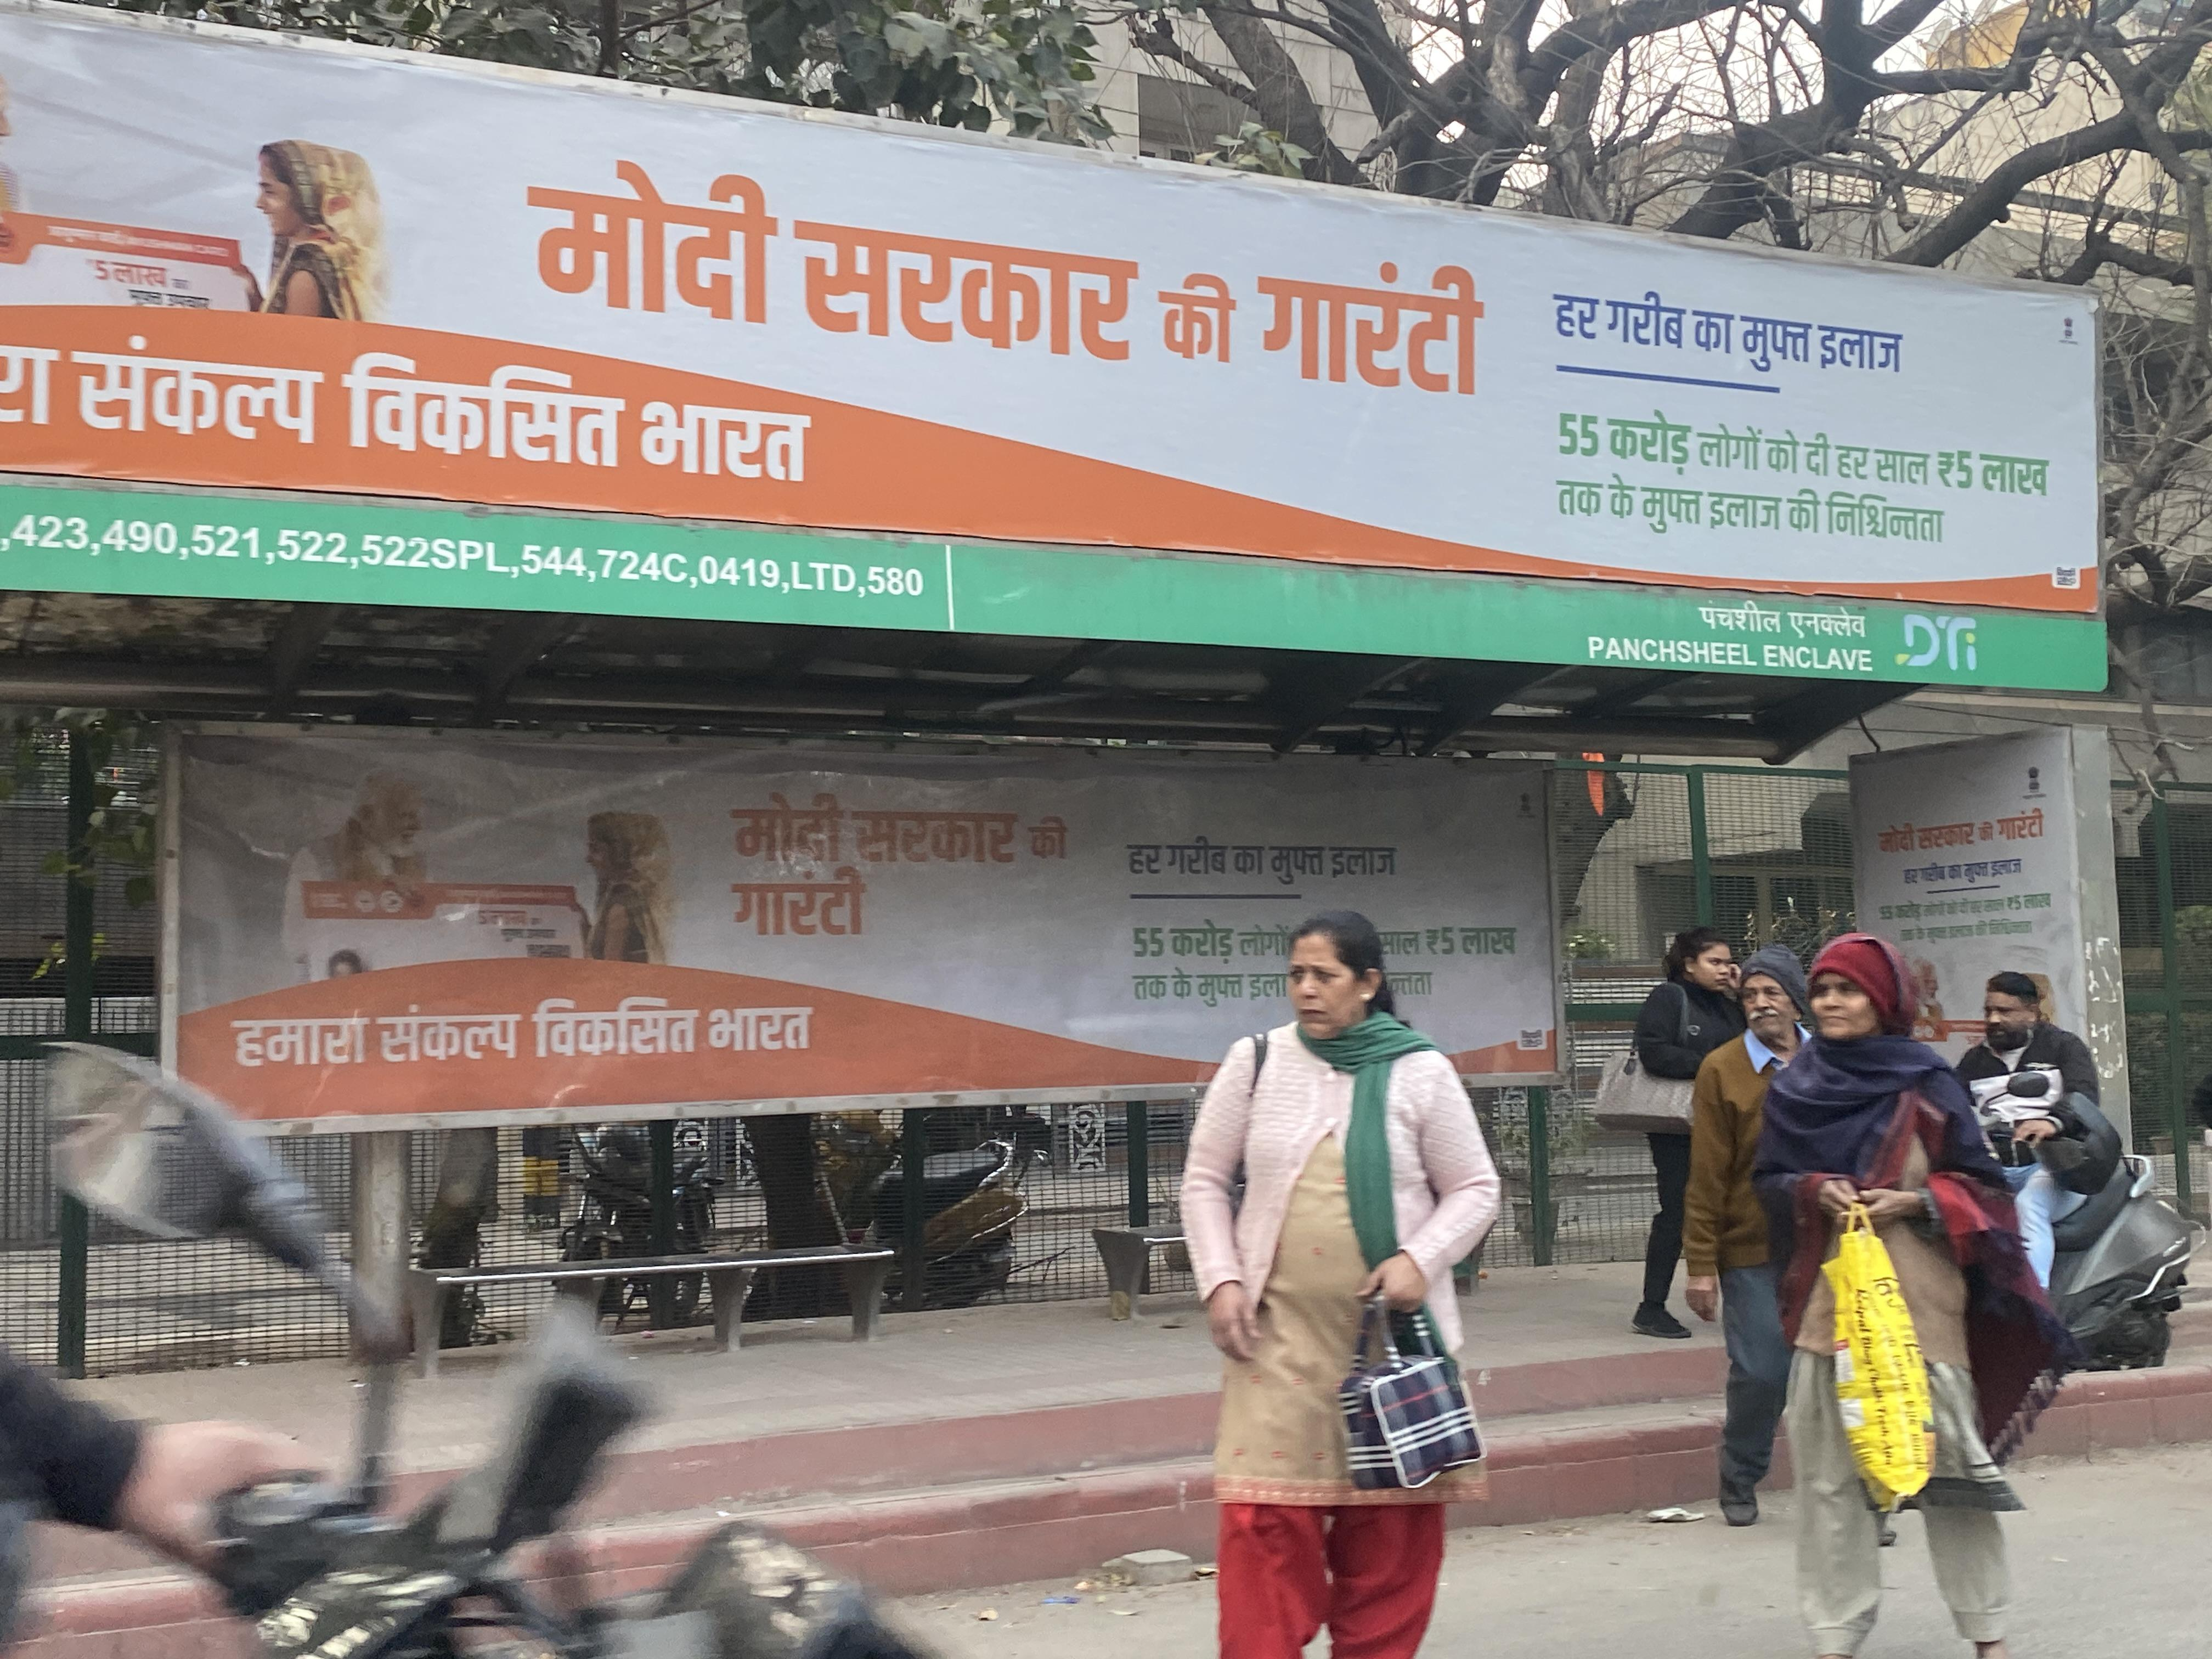Bus-stop-board: (0, 477, 2118, 702)
